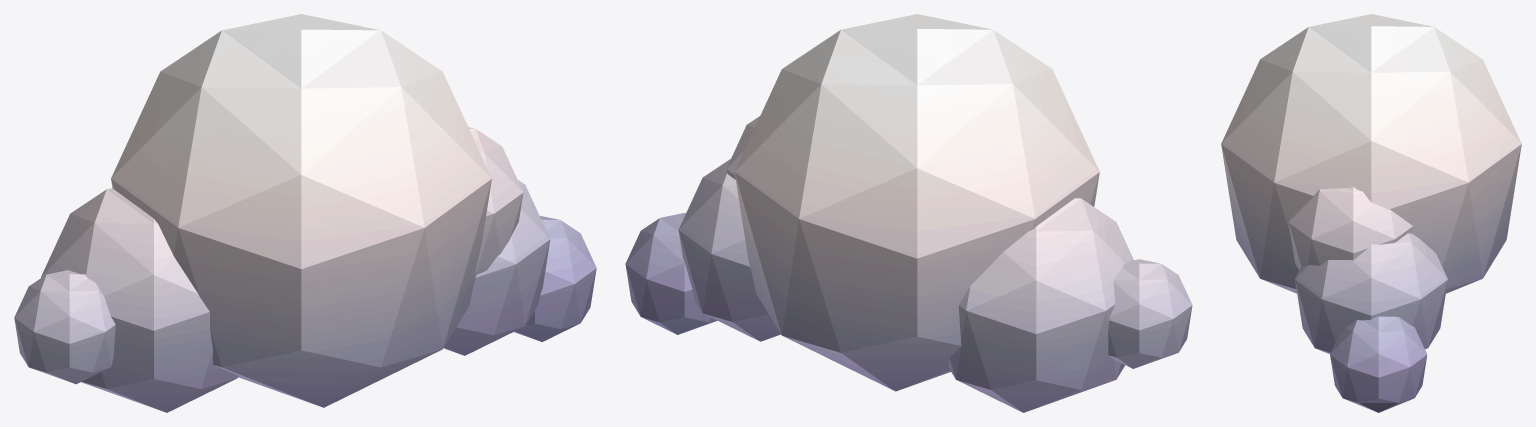
The model's file is Cloud_001.FBX.
The picture shows the model from 3 angles, left to right: view 1: azimuth 30°, elevation 25°; view 2: azimuth 150°, elevation 25°; view 3: azimuth 270°, elevation 25°; orthographic projection. The views are drawn at different scales.
Visible parts, largest first — view 1: Cloud_001; view 2: Cloud_001; view 3: Cloud_001.
Part boxes in pixels (x1,y1,x2,y2): Cloud_001: (14, 14, 596, 412); Cloud_001: (625, 14, 1192, 412); Cloud_001: (1221, 14, 1521, 412).
Size of the model in its own units: 4.03 by 2.33 by 2.46.
